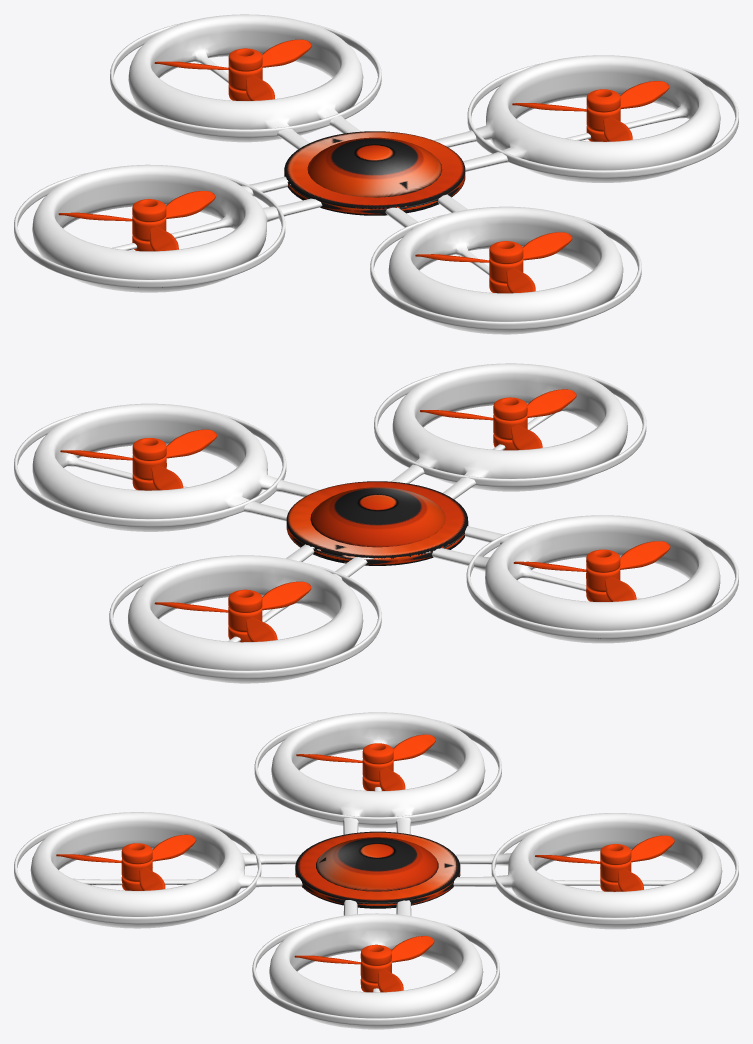
File: quadr_v2.obj
3 renders of one model, top to bottom at view 1: azimuth 30°, elevation 25°; view 2: azimuth 150°, elevation 25°; view 3: azimuth 270°, elevation 25°, orthographic. The views are drawn at different scales.
Visible parts, largest first — view 1: Tube039, Tube045, Tube041, Tube037, Capsule010, Cylinder001, Tube043, Tube040, Tube044, Tube036, Tube042, Tube034 (+10 smaller); view 2: Tube039, Tube045, Tube037, Tube041, Capsule010, Cylinder001, Tube036, Tube040, Tube044, Tube043, Tube046, Tube038 (+10 smaller); view 3: Tube041, Tube037, Tube045, Tube039, Capsule010, Cylinder001, Tube044, Tube043, Tube036, Tube040, Tube034, Tube042 (+6 smaller).
Boxes of the visible parts, x1,y1,x2,y2 form: Tube039: (32, 164, 322, 292); Tube045: (433, 55, 720, 182); Tube041: (385, 194, 623, 334); Tube037: (128, 14, 363, 149); Capsule010: (307, 137, 442, 197); Cylinder001: (284, 131, 465, 215); Tube043: (370, 214, 641, 329); Tube040: (14, 173, 285, 287); Tube044: (467, 63, 738, 178); Tube036: (110, 22, 381, 137); Tube042: (489, 241, 523, 293); Tube034: (228, 48, 262, 100); Tube039: (423, 515, 720, 643); Tube045: (32, 403, 319, 531); Tube037: (128, 544, 373, 683); Tube041: (391, 363, 627, 499); Capsule010: (310, 487, 445, 547); Cylinder001: (286, 481, 468, 565); Tube036: (109, 563, 381, 678); Tube040: (466, 523, 738, 638); Tube044: (14, 411, 286, 527); Tube043: (374, 371, 646, 486); Tube046: (132, 438, 166, 490); Tube038: (586, 549, 620, 601); Tube041: (30, 812, 302, 928); Tube037: (453, 813, 722, 929); Tube045: (269, 900, 483, 1029); Tube039: (271, 712, 485, 834); Capsule010: (316, 837, 438, 891); Cylinder001: (295, 831, 460, 908); Tube044: (252, 921, 499, 1025); Tube043: (14, 819, 261, 924); Tube036: (491, 820, 738, 925); Tube040: (254, 720, 501, 824); Tube034: (600, 844, 631, 891); Tube042: (121, 843, 152, 890).
Bounding box in the file's own units: 6.72 × 0.4628 × 6.74.
4 materials, 4 textured.
